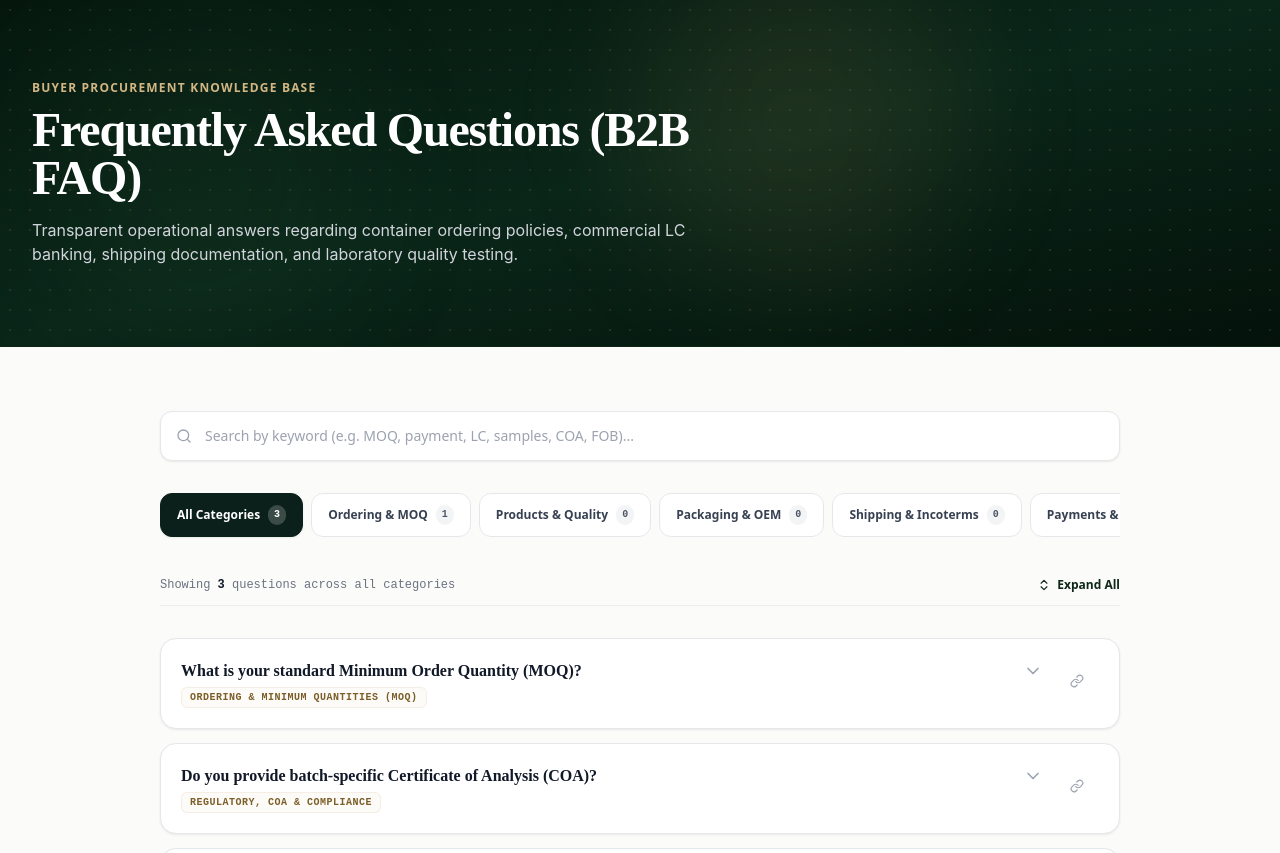
it: UI Component: FaqPage Suite › filters by category tab when clicked
Step 1. Click the tab "Ordering & MOQ 1" → [391, 515], box [311,493,471,537]
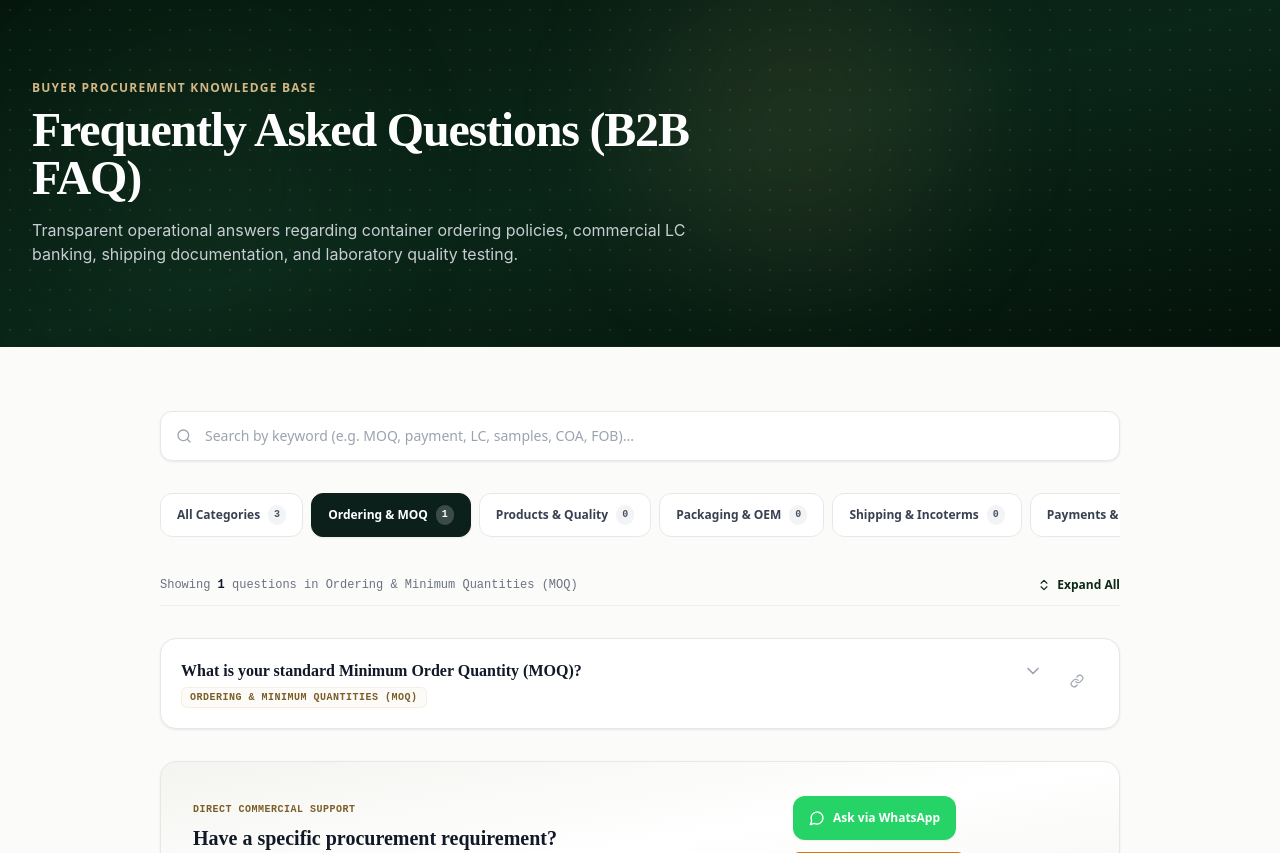
Expected: the text "What is your standard Minimum Order Quantity (MOQ)?" is shown, [181,659,582,683]
Expected: the button "Do you provide batch-specific Certificate of Analysis (COA)?" is gone
